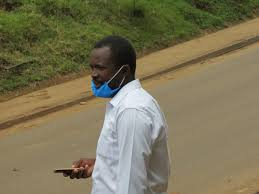mask_weared_incorrect: (90, 56, 111, 98)
